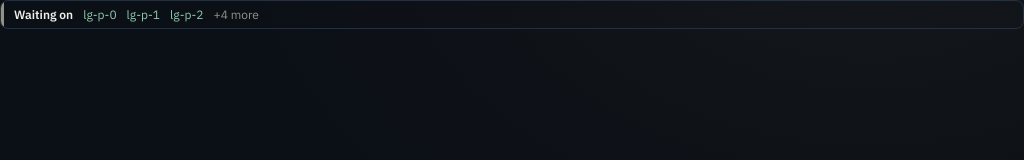
Test: waiting on other tickets › names the first three and keeps the rest one disclosure away
The width and height of the screenshot is (1024, 160).
Expected: the number of buttons "lg-p-0" is 3, [83,7,117,22]; [127,7,160,22]; [170,7,204,22]
Click the button "+4 more": (236, 14) [214,7,259,22]
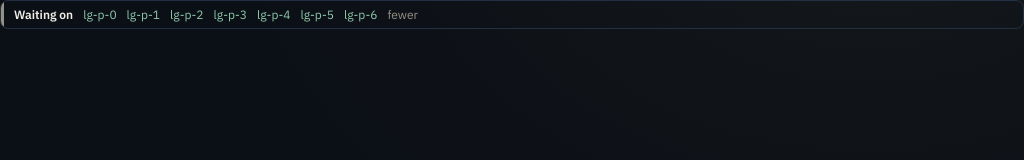
Now the number of buttons "lg-p-0" is 7
Now the button "fewer" is expanded, box [387,7,418,22]
